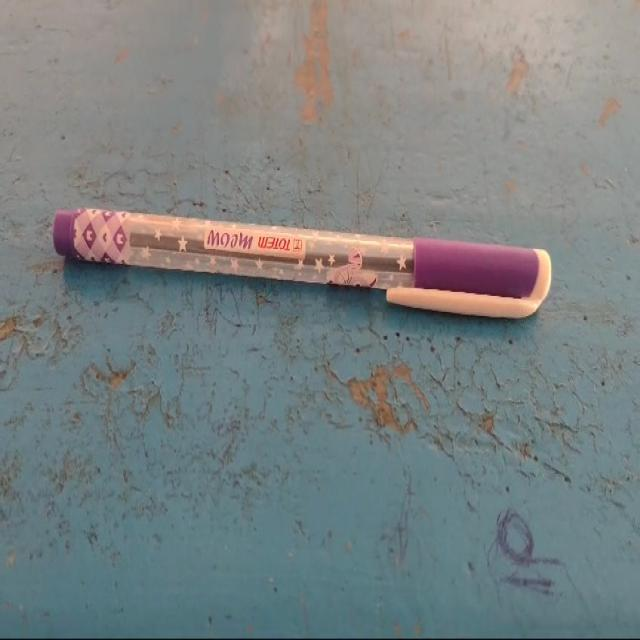pen: (38, 126, 586, 400)
